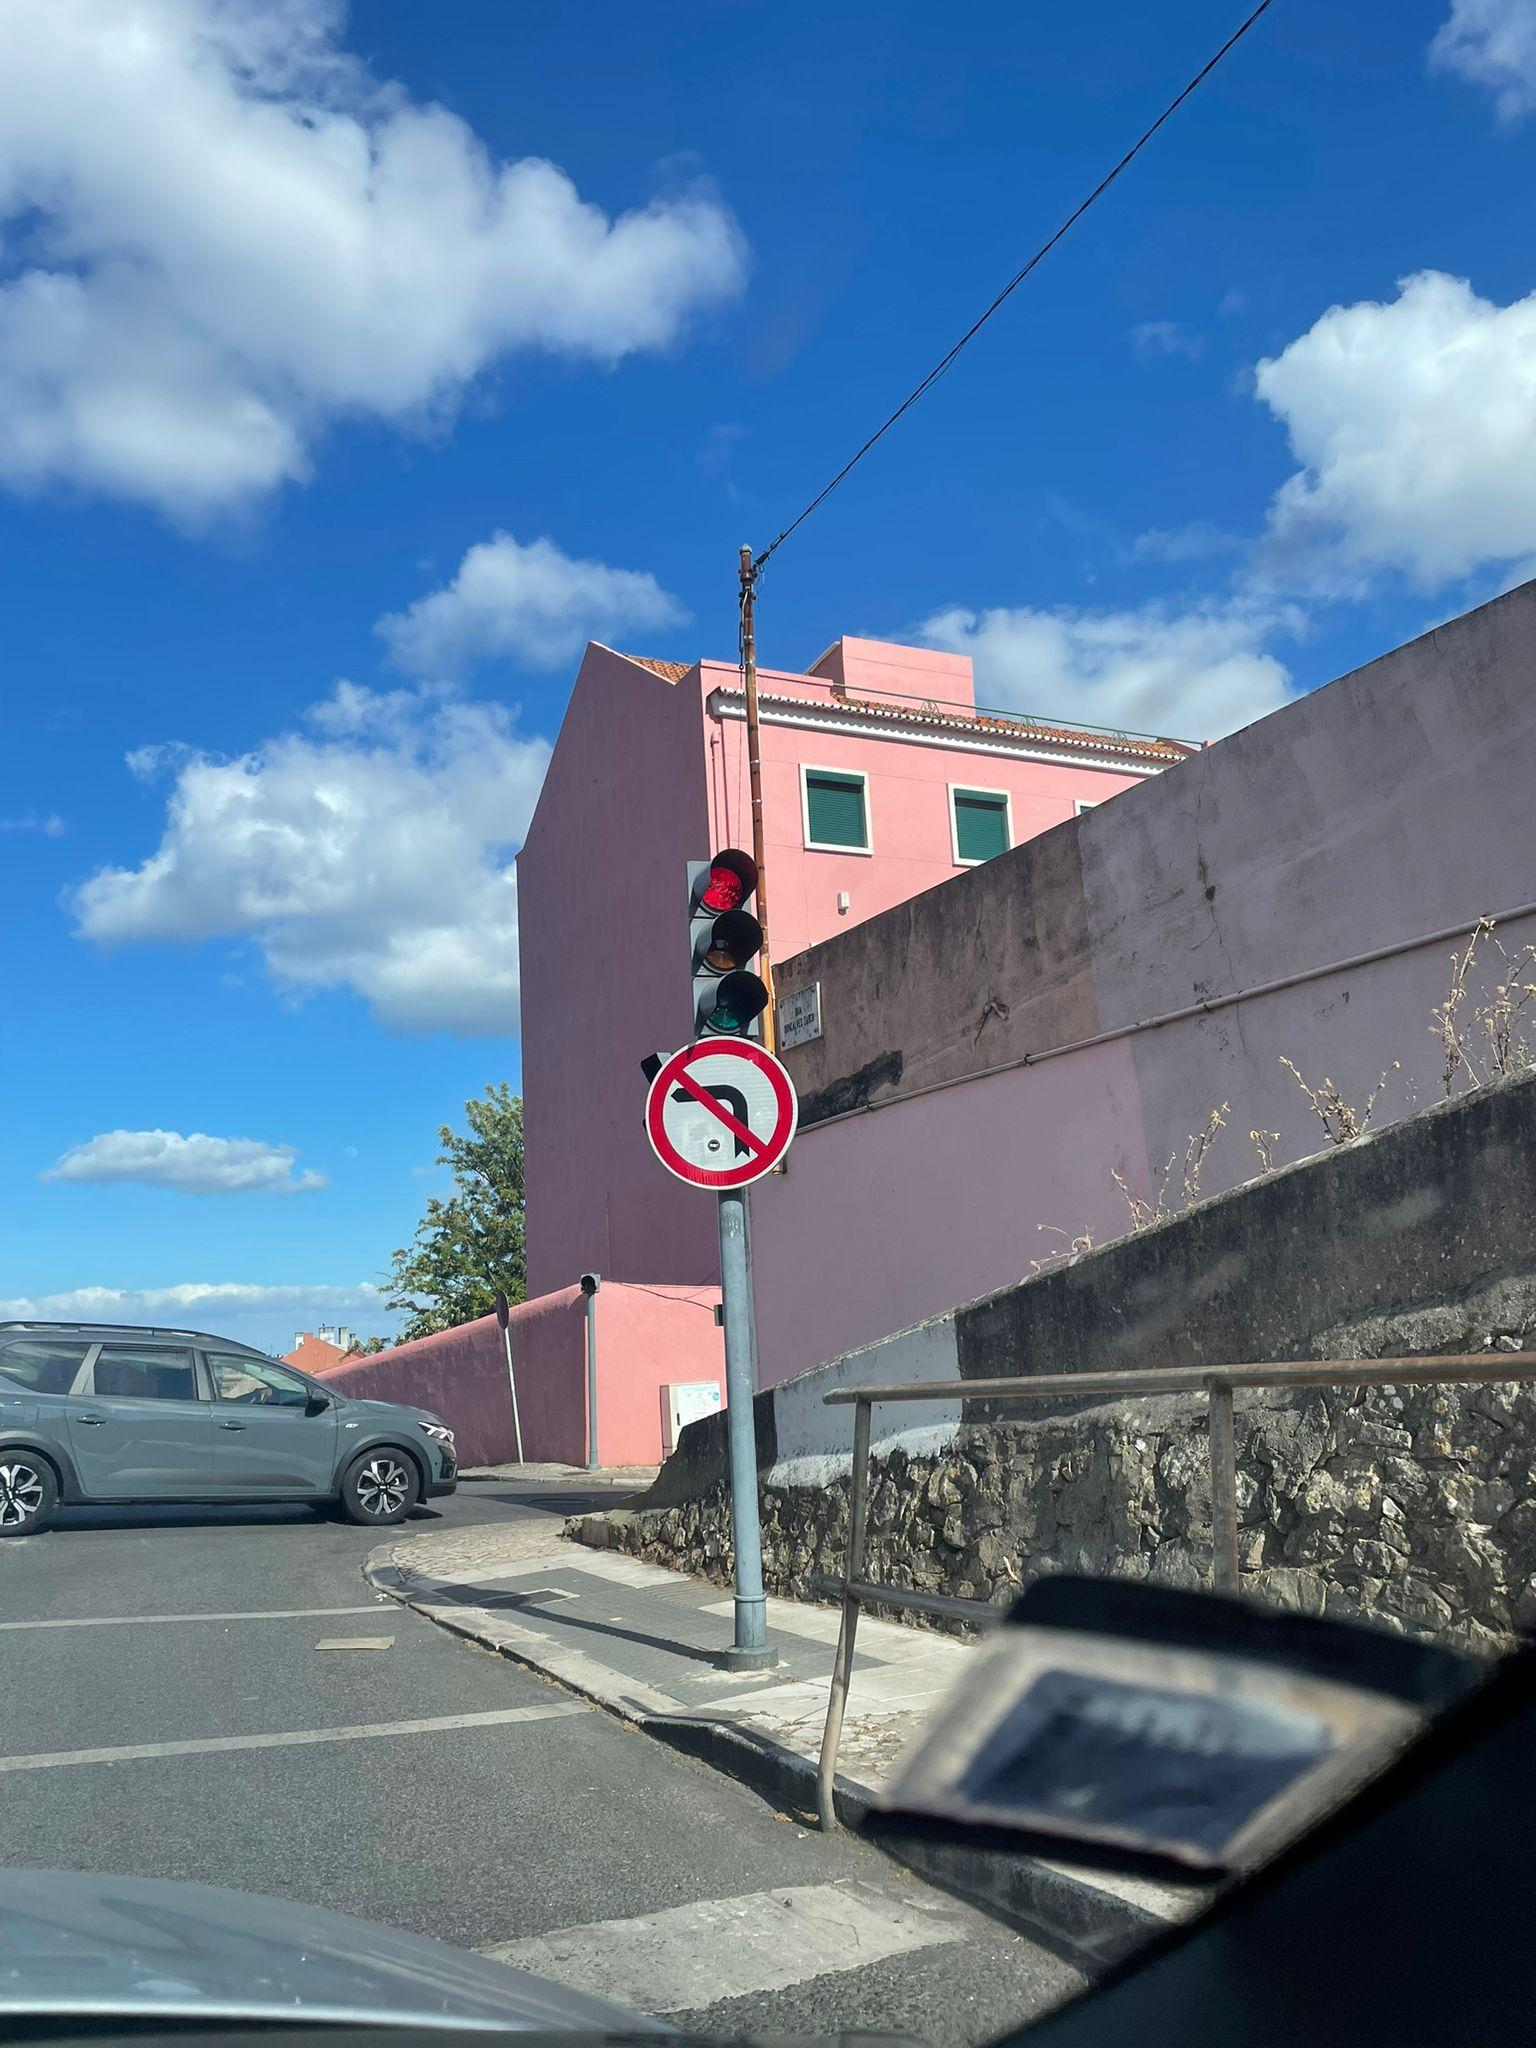proibicao de virar a esquerda: (641, 1027, 807, 1198)
